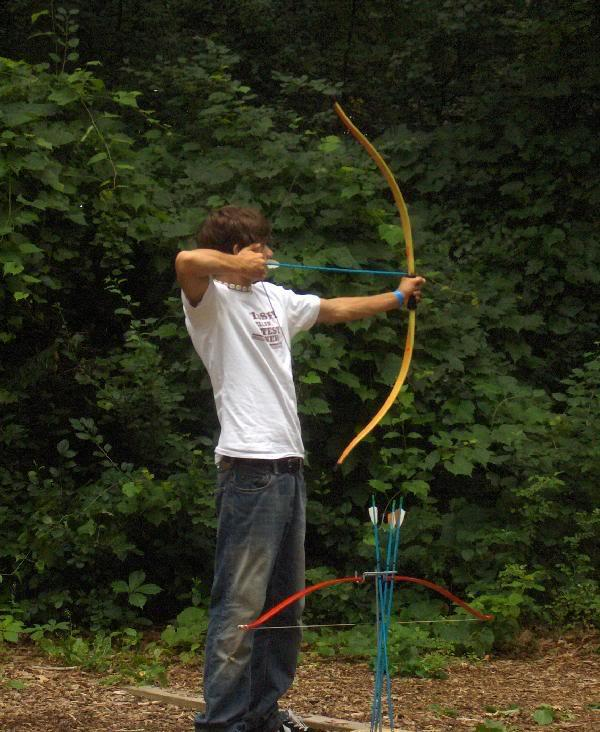person: (175, 205, 430, 732)
